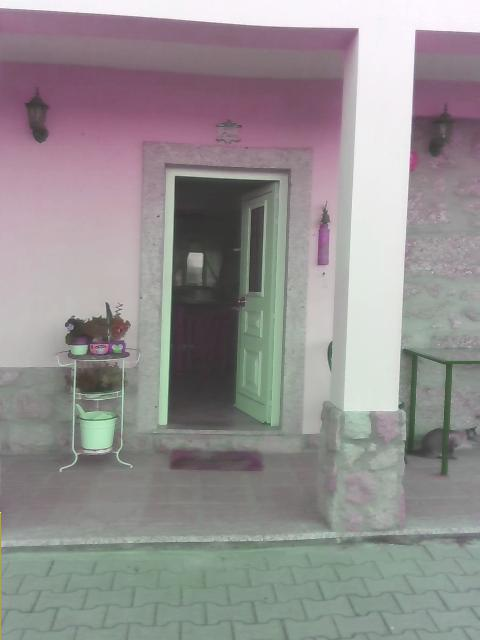open_door: (163, 174, 280, 427)
